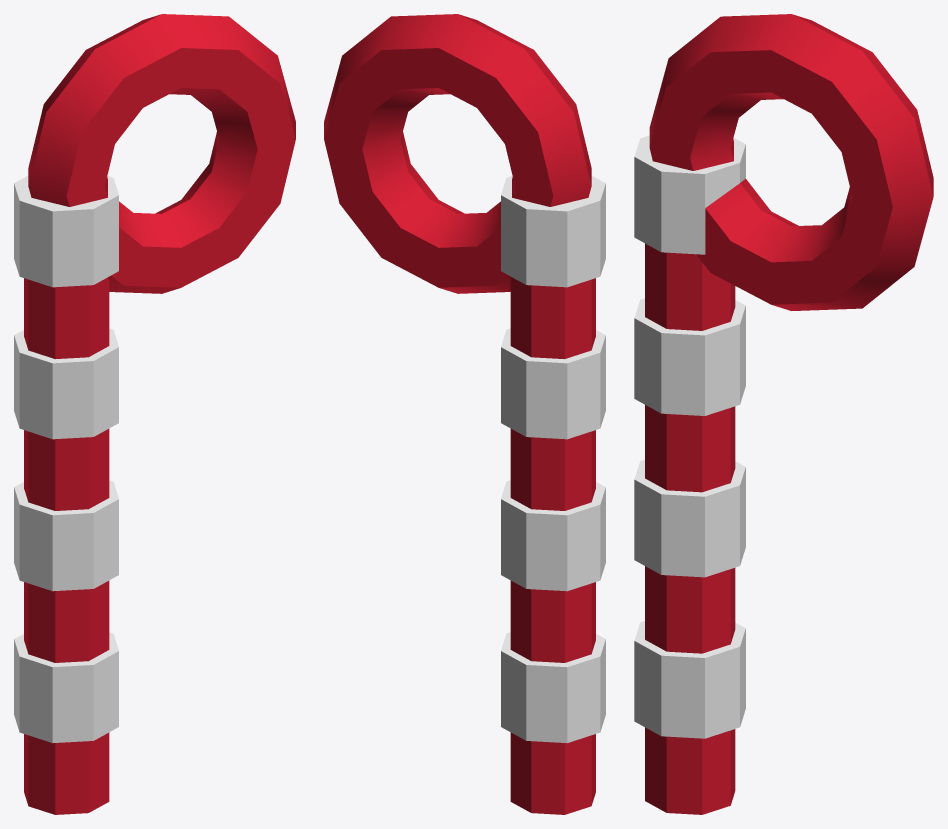
Rendered from DecoCandyCane.fbx.
3 renders of one model, left to right at view 1: azimuth 30°, elevation 25°; view 2: azimuth 150°, elevation 25°; view 3: azimuth 330°, elevation 25°, orthographic. The views are drawn at different scales.
Parts seen in each view (by area): view 1: DecoCandyCane; view 2: DecoCandyCane; view 3: DecoCandyCane.
Boxes of the visible parts, box(x1,y1,x2,y2) form: DecoCandyCane: box(14, 14, 295, 814); DecoCandyCane: box(324, 14, 605, 814); DecoCandyCane: box(634, 14, 933, 814).
Size of the model in its own units: 145 by 380 by 49.24.
